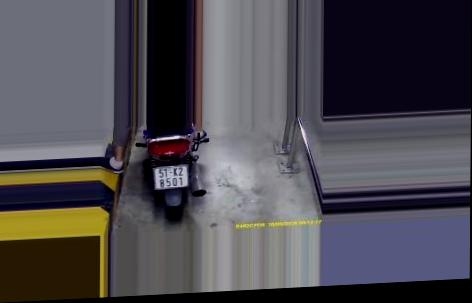License_Plate: (150, 163, 193, 191)
